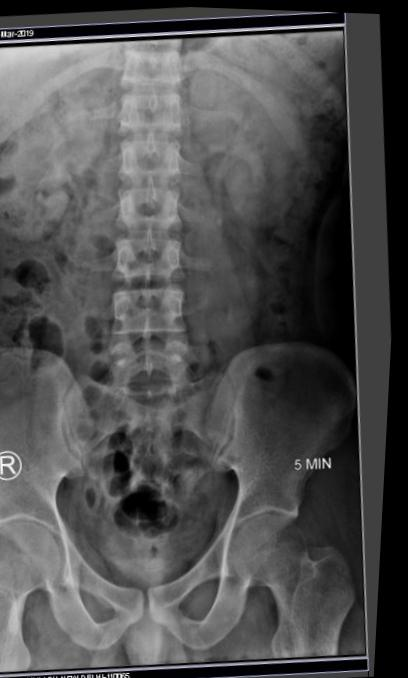left kidney: (202, 29, 353, 231)
right kidney: (0, 50, 108, 247)
vertebrae: (130, 108, 209, 170)
